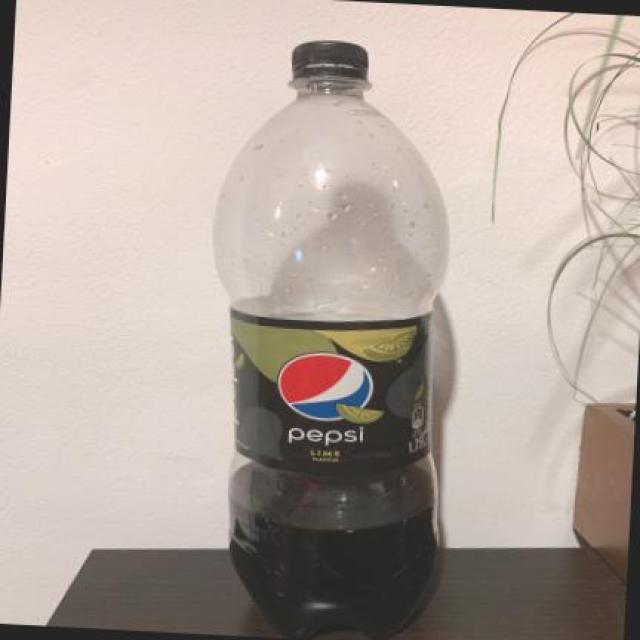low: (215, 41, 447, 636)
